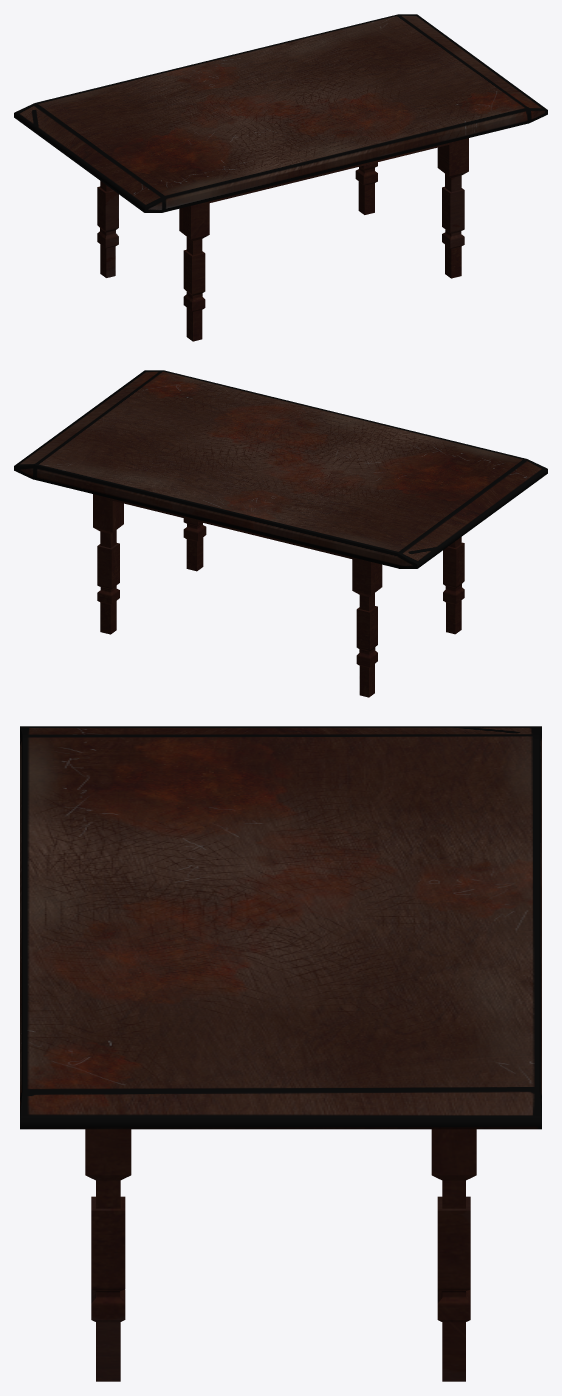
File: table.fbx
3 views of the same model, one above another, from view 1: azimuth 30°, elevation 25°; view 2: azimuth 150°, elevation 25°; view 3: azimuth 270°, elevation 25° (orthographic). The views are drawn at different scales.
Parts seen in each view (by area): view 1: mesh_Table; view 2: mesh_Table; view 3: mesh_Table.
Part boxes in pixels (left/top/right/bottom): mesh_Table: left=14, top=14, right=547, bottom=341; mesh_Table: left=14, top=370, right=547, bottom=697; mesh_Table: left=20, top=726, right=541, bottom=1381.
Bounding box in the file's own units: 10.27 × 4.11 × 5.76.
Materials: 1 (1 with a texture image).
